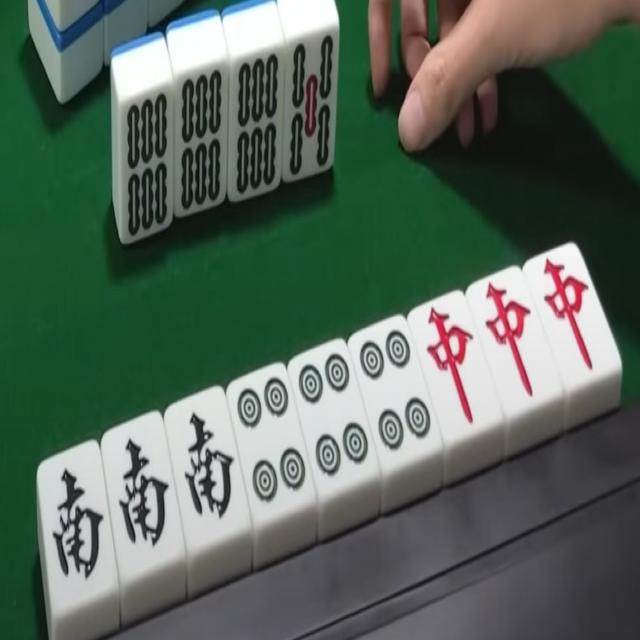s5: (288, 32, 334, 178)
s6: (114, 87, 172, 235), (177, 68, 225, 216), (233, 49, 280, 197)
south: (42, 449, 102, 592), (116, 428, 170, 560), (180, 400, 233, 532)
t4: (298, 350, 370, 480), (361, 323, 432, 454), (236, 376, 304, 504)
zhong: (410, 294, 498, 440), (530, 245, 610, 382)
